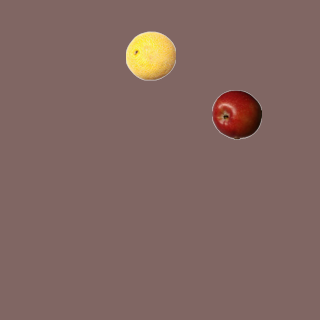Apple Braeburn: (211, 89, 261, 139)
Cantaloupe 1: (125, 30, 175, 80)
